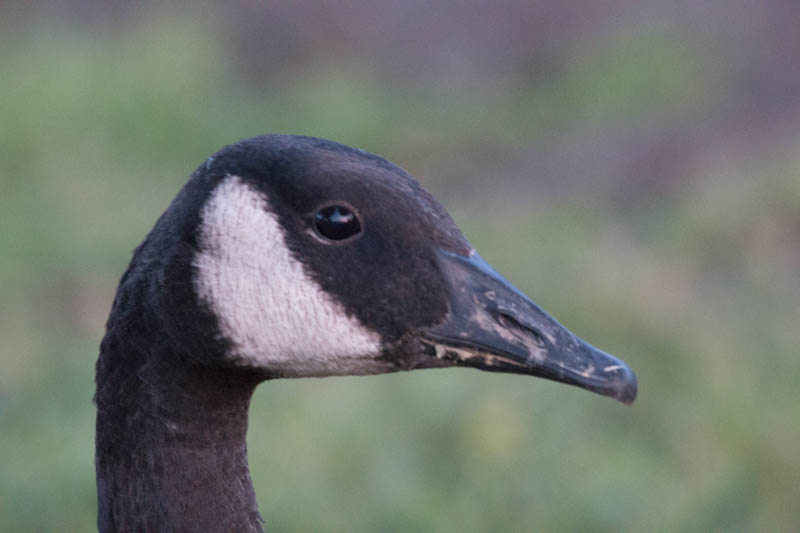goose-head: (142, 134, 639, 402)
